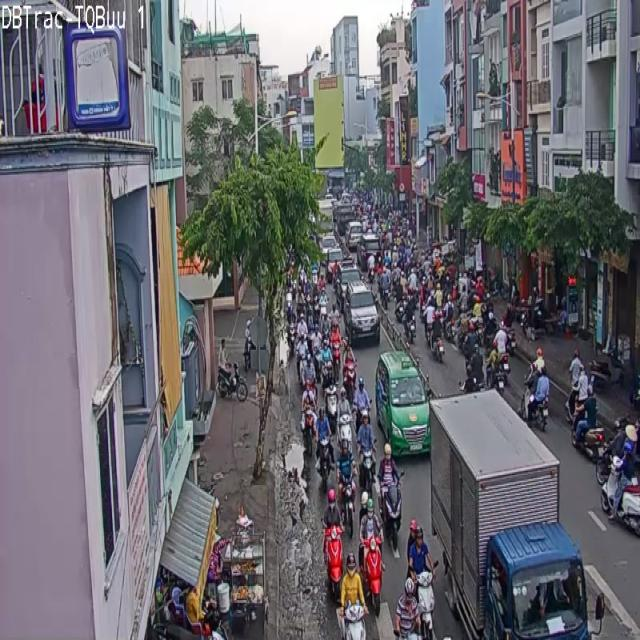car: (378, 444, 401, 556), (323, 506, 342, 602), (417, 570, 434, 639), (366, 538, 381, 614), (344, 602, 366, 639)
traffic-light: (375, 351, 429, 455), (343, 280, 379, 343)
truck: (430, 390, 583, 636)
